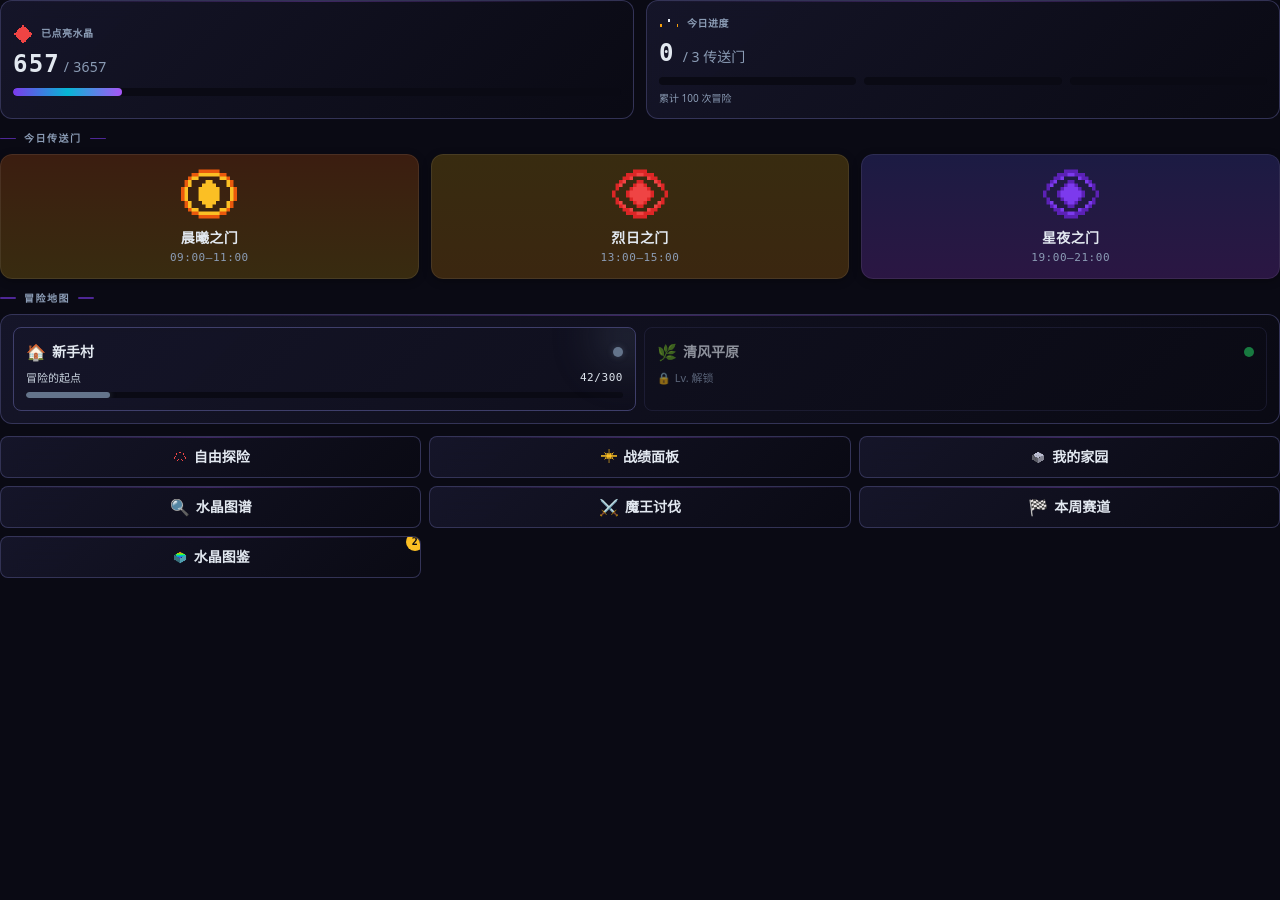
Test: 冒险地图 › 自由探险先问练哪一种，不直接开练
Step 1. Click the button "自由探险" → (211, 457), box [0,436,421,478]
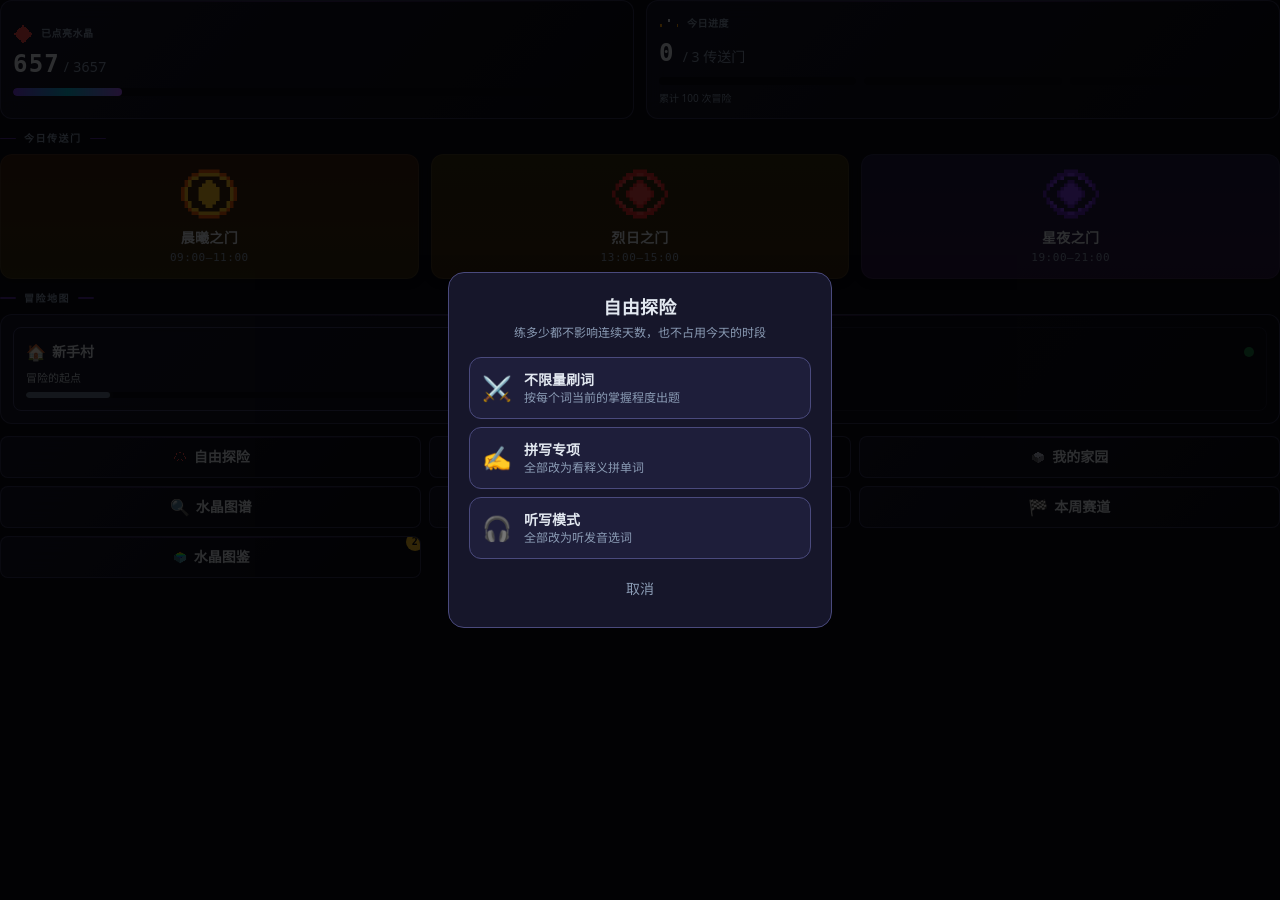
Expected: the text "拼写专项" is shown, [524,440,580,459]
Expected: the text "听写模式" is shown, [524,510,580,529]
